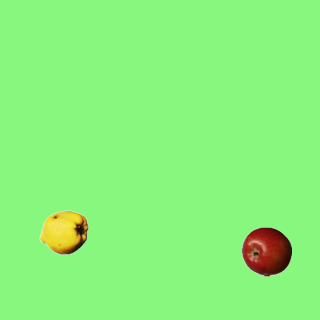Apple Braeburn: (241, 226, 291, 276)
Quince: (38, 207, 88, 257)
